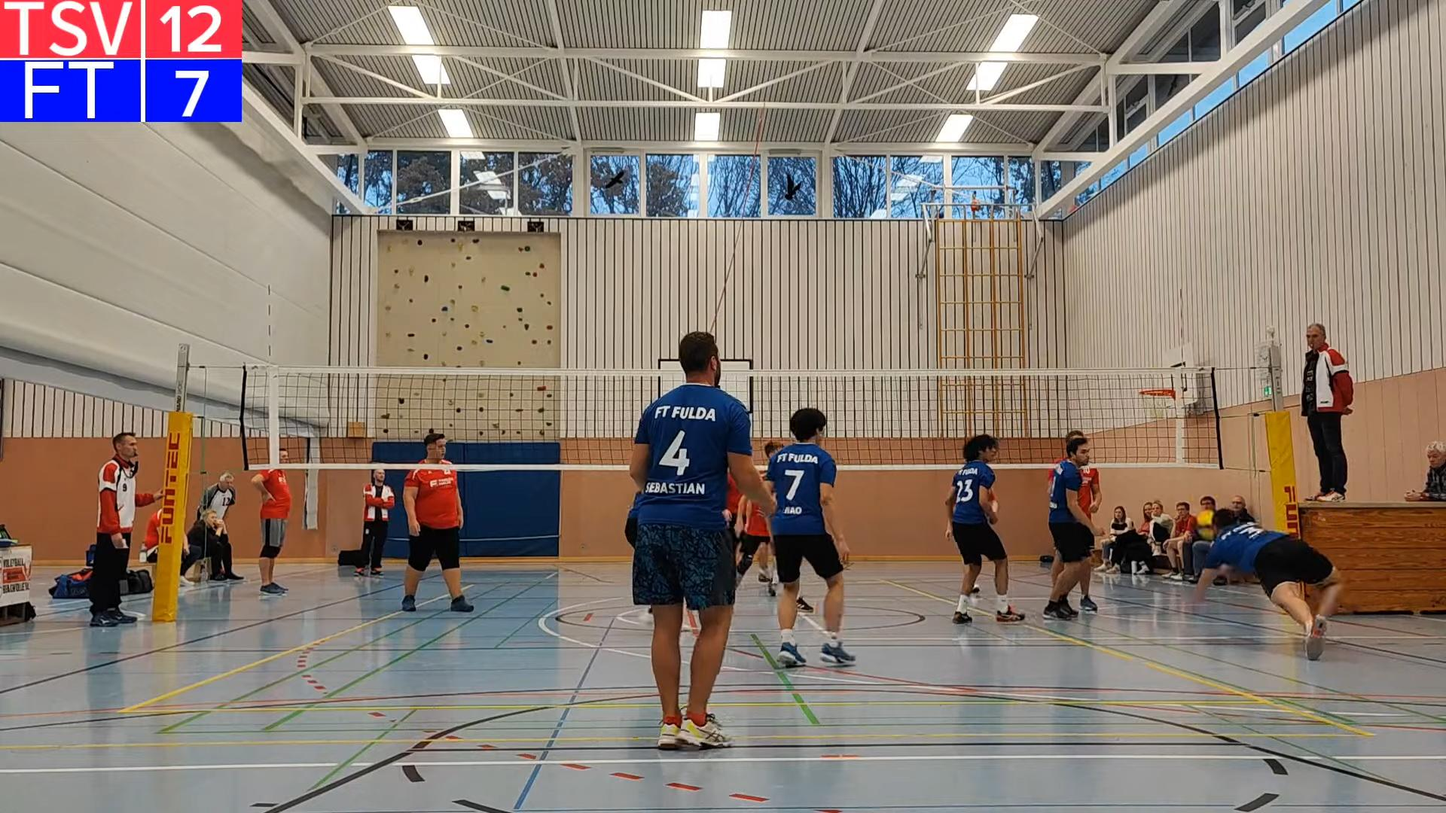Dig: (1189, 504, 1347, 659)
Player: (630, 332, 773, 748), (767, 407, 855, 665), (945, 434, 1024, 623), (401, 432, 473, 611), (1043, 437, 1100, 619), (739, 498, 778, 595), (1079, 464, 1101, 518), (624, 492, 641, 548)
ball: (1197, 504, 1215, 533)
